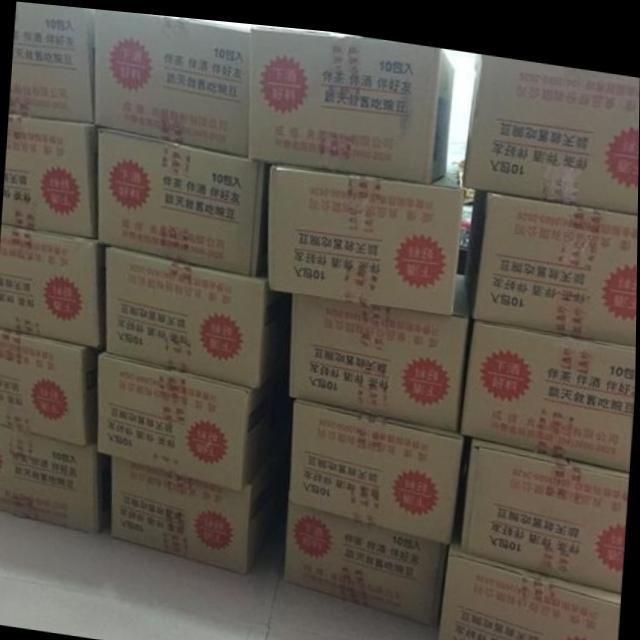box: (250, 22, 457, 175), (269, 160, 465, 305), (291, 266, 471, 423), (464, 44, 640, 202), (463, 181, 638, 333), (461, 313, 637, 459), (460, 431, 630, 581), (98, 351, 282, 484), (107, 246, 284, 383), (98, 128, 268, 270), (291, 399, 465, 536), (96, 7, 250, 151), (112, 449, 280, 568), (440, 531, 622, 640), (286, 499, 448, 616), (0, 228, 106, 347), (0, 424, 112, 530), (0, 330, 102, 444), (3, 115, 98, 235), (10, 1, 96, 121)
